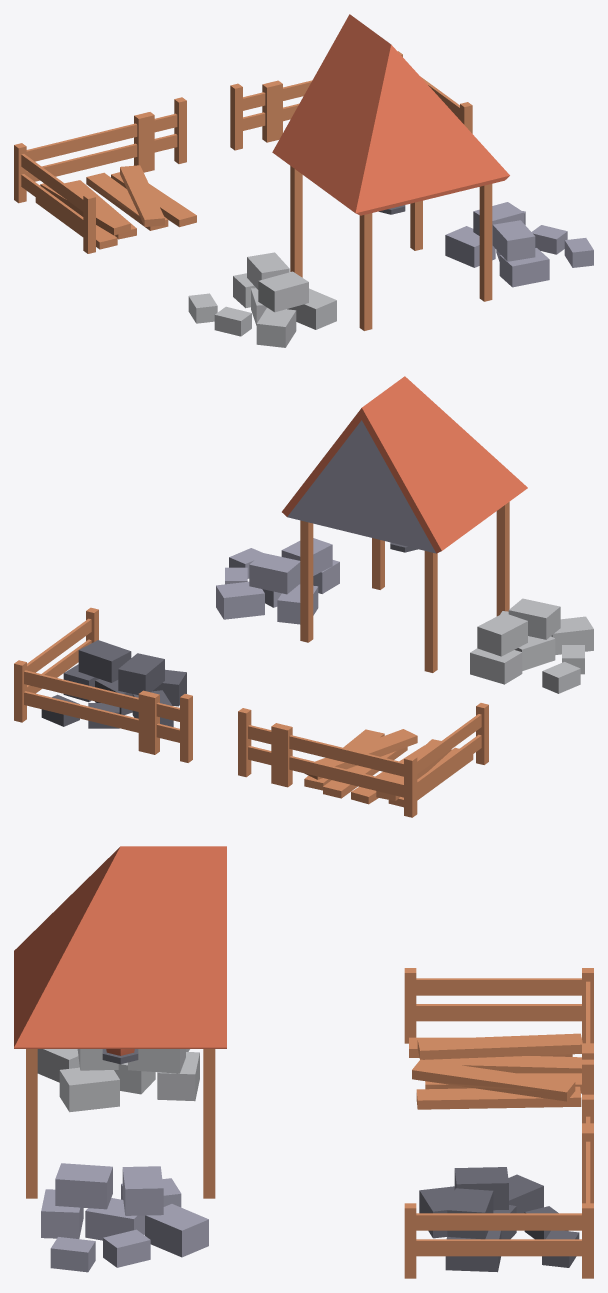
File: Mine.fbx
3 renders of one model, top to bottom at view 1: azimuth 30°, elevation 25°; view 2: azimuth 150°, elevation 25°; view 3: azimuth 270°, elevation 25°, orthographic. The views are drawn at different scales.
Parts seen in each view (by area): view 1: roof_end_11, debris_bricks_13, debris_bricks_12, debris_wood_15, structure_poles_10, fence_wood_7, fence_woodGate_5, fence_wood_8, fence_wood_6, fence_wood_9; view 2: roof_end_11, debris_bricks_13, debris_bricks_12, debris_bricks_14, structure_poles_10, fence_wood_7, fence_wood_6, fence_woodGate_5, debris_wood_15, fence_wood_8, fence_wood_9; view 3: roof_end_11, debris_bricks_12, debris_wood_15, debris_bricks_13, fence_wood_9, debris_bricks_14, fence_wood_8, structure_poles_10, fence_wood_6, fence_woodGate_5, fence_wood_7.
Part boxes in pixels (x1,y1,x2,y2): roof_end_11: (272,14,509,215); debris_bricks_13: (188,252,336,347); debris_bricks_12: (445,202,593,287); debris_wood_15: (35,165,196,249); structure_poles_10: (290,166,492,330); fence_wood_7: (14,114,146,203); fence_woodGate_5: (142,82,274,171); fence_wood_8: (14,144,95,253); fence_wood_6: (270,51,402,140); fence_wood_9: (398,51,472,133); roof_end_11: (282,376,527,553); debris_bricks_13: (470,598,593,693); debris_bricks_12: (216,538,339,624); debris_bricks_14: (41,640,186,728); structure_poles_10: (300,502,509,672); fence_wood_7: (279,725,417,817); fence_wood_6: (14,660,151,752); fence_woodGate_5: (146,692,283,785); debris_wood_15: (304,729,473,807); fence_wood_8: (404,703,488,817); fence_wood_9: (14,607,98,722); roof_end_11: (14,846,226,1048); debris_bricks_12: (41,1163,208,1272); debris_wood_15: (409,1033,582,1109); debris_bricks_13: (37,1049,199,1112); fence_wood_9: (404,1203,593,1278); debris_bricks_14: (419,1167,579,1272); fence_wood_8: (404,968,593,1043); structure_poles_10: (26,1049,215,1198); fence_wood_6: (582,1128,593,1278); fence_woodGate_5: (582,1048,593,1128); fence_wood_7: (582,968,593,1048).
Size of the model in its own units: 30 by 18.19 by 30.62.
